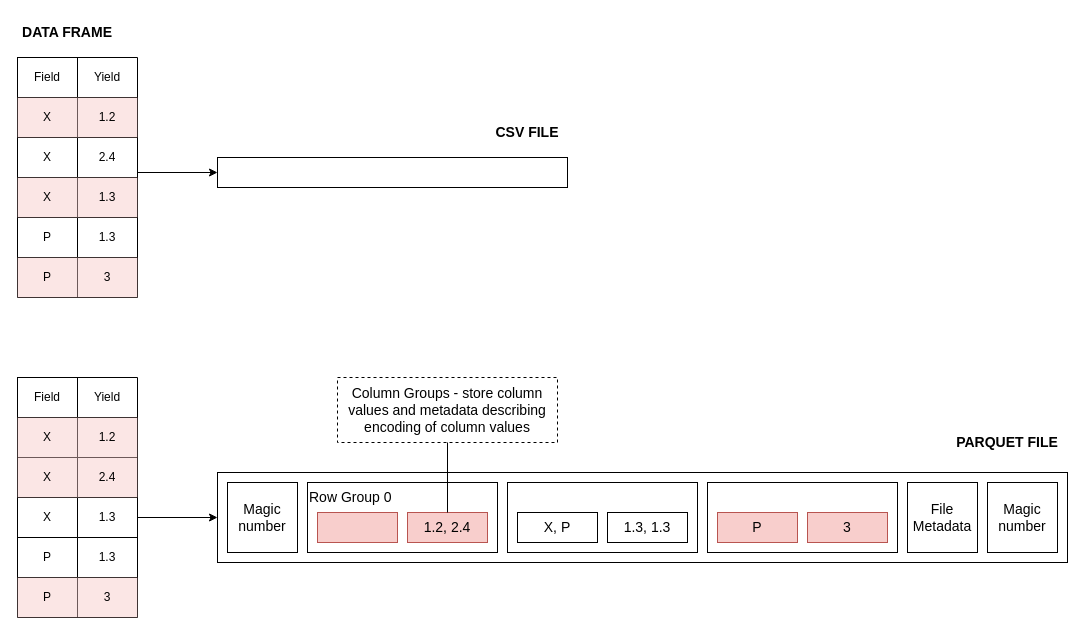
Image size: 1085x635. Some labels were removed from this diagram. The box of each missing label's shape, as (x1, y1, x2, y2) in pixels:
Field, Yield, \n, X, 1.2, \n, X , 2.4, \n, ...... , P, 3, EOF: (216, 156, 568, 188)
Row Group 1: (506, 482, 698, 552)
Row Group 2: (706, 482, 898, 552)
X, X: (316, 512, 398, 542)
